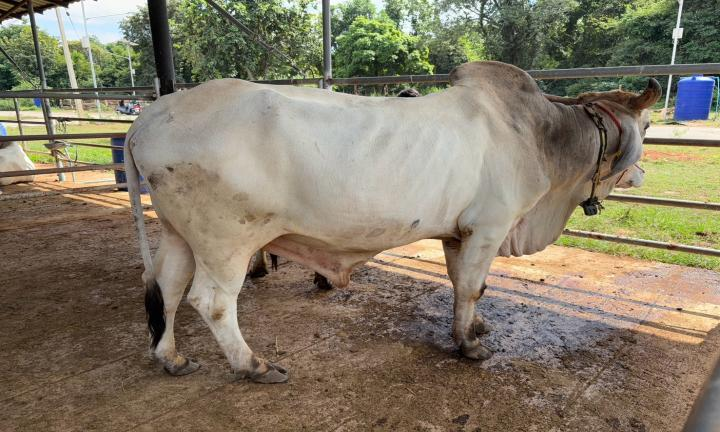Brahman: (124, 61, 661, 382), (125, 61, 660, 382)
